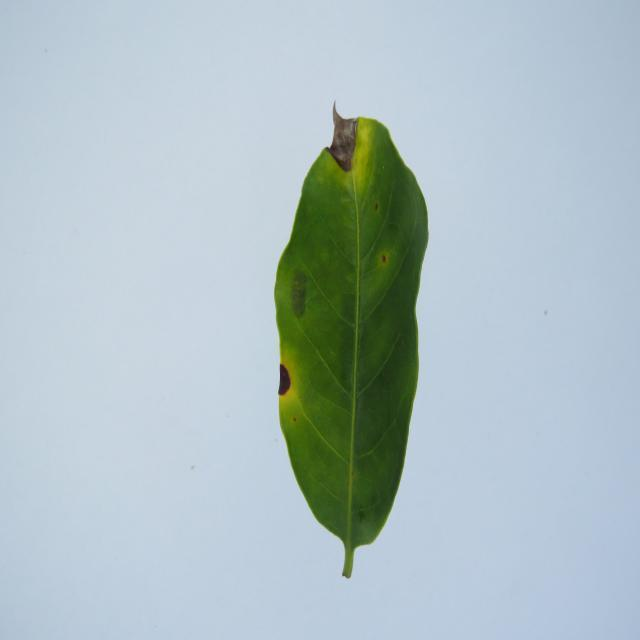DeficienciaNutricional-Potasio: (275, 107, 429, 578)
